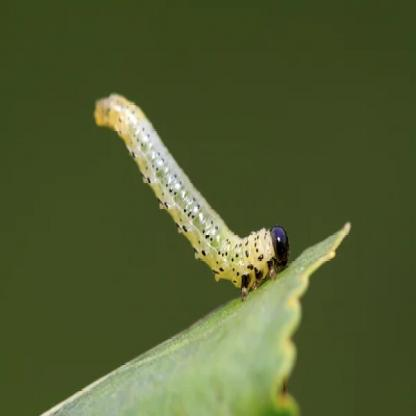sawfly: (95, 92, 292, 300)
